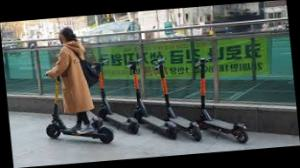nonhelmet: (33, 23, 119, 151)
